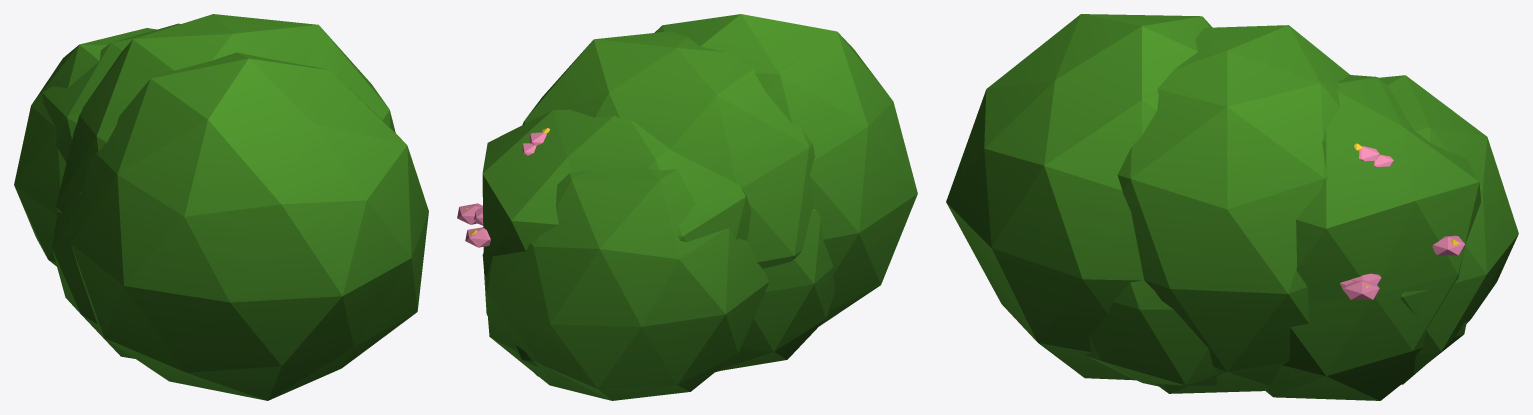
The model's file is bush_flower_01.fbx.
The picture shows the model from 3 angles, left to right: view 1: azimuth 30°, elevation 25°; view 2: azimuth 150°, elevation 25°; view 3: azimuth 270°, elevation 25°; orthographic projection. The views are drawn at different scales.
Visible parts, largest first — view 1: bush_flower_01_LOD0; view 2: bush_flower_01_LOD0; view 3: bush_flower_01_LOD0.
Part boxes in pixels (x1,y1,x2,y2): bush_flower_01_LOD0: (14,14,428,400); bush_flower_01_LOD0: (457,14,917,400); bush_flower_01_LOD0: (946,14,1518,400).
Size of what is drawn, in the model's own units: 1.08 by 1.03 by 1.52.
1 material, 1 textured.
